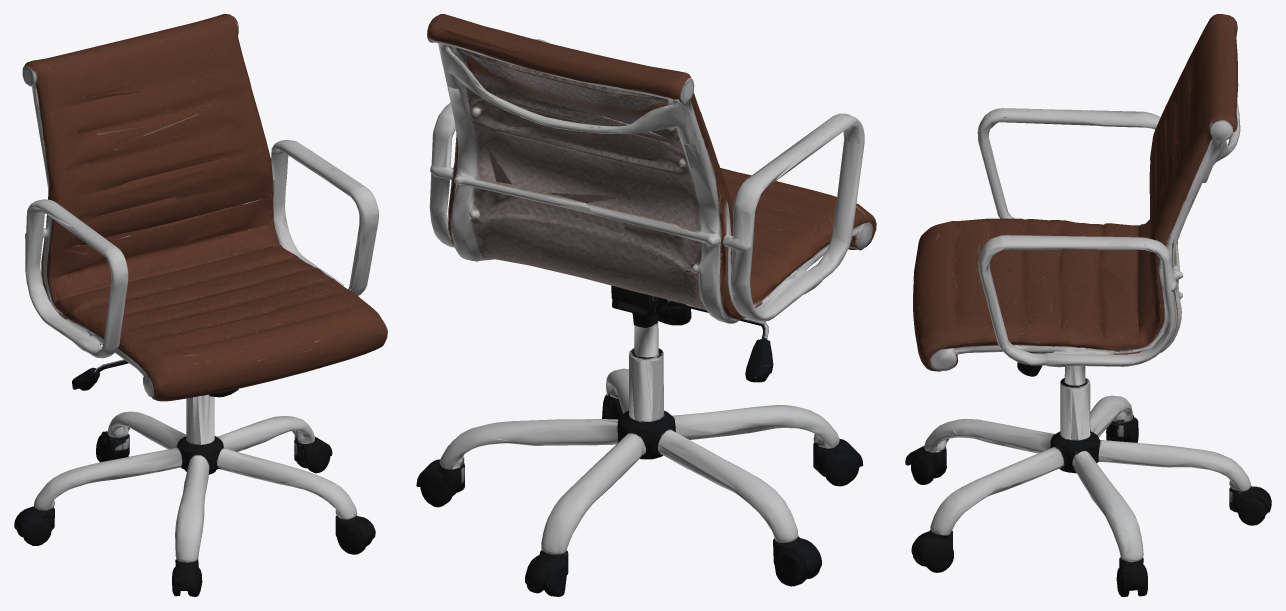
The model's file is leather-office-chair.glb.
3 renders of one model, left to right at view 1: azimuth 30°, elevation 25°; view 2: azimuth 150°, elevation 25°; view 3: azimuth 270°, elevation 25°, orthographic. The views are drawn at different scales.
Visible parts, largest first — view 1: mesh_node; view 2: mesh_node; view 3: mesh_node.
Boxes of the visible parts, bbox=[...] form: mesh_node: bbox=[14, 14, 387, 596]; mesh_node: bbox=[416, 14, 876, 596]; mesh_node: bbox=[905, 14, 1271, 596].
Bounding box in the file's own units: 0.7223 × 0.95 × 0.687.
Materials: 1 (1 with a texture image).
